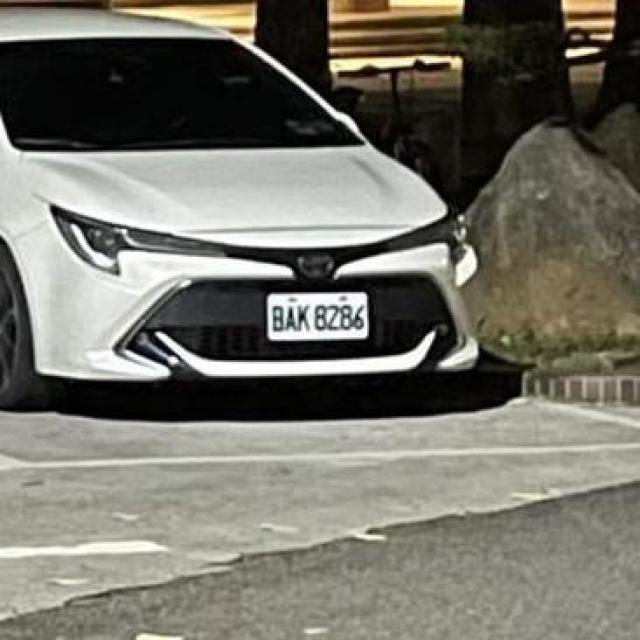W: (252, 280, 379, 348)
